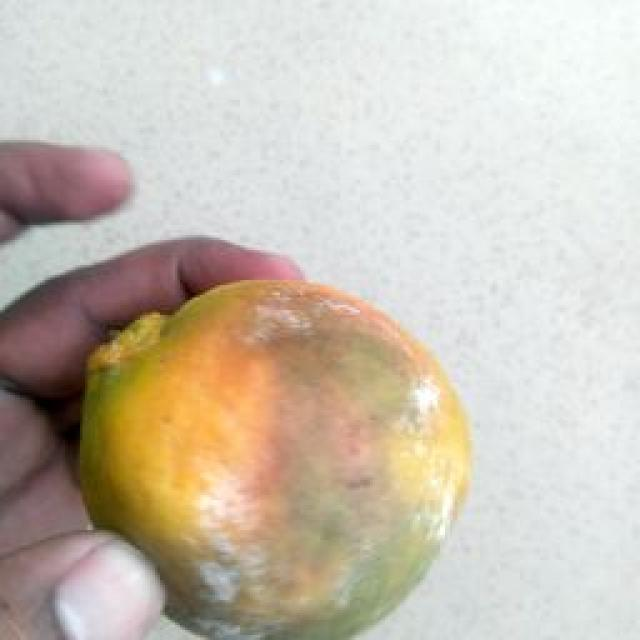Bad_Orange: (80, 281, 469, 640)
